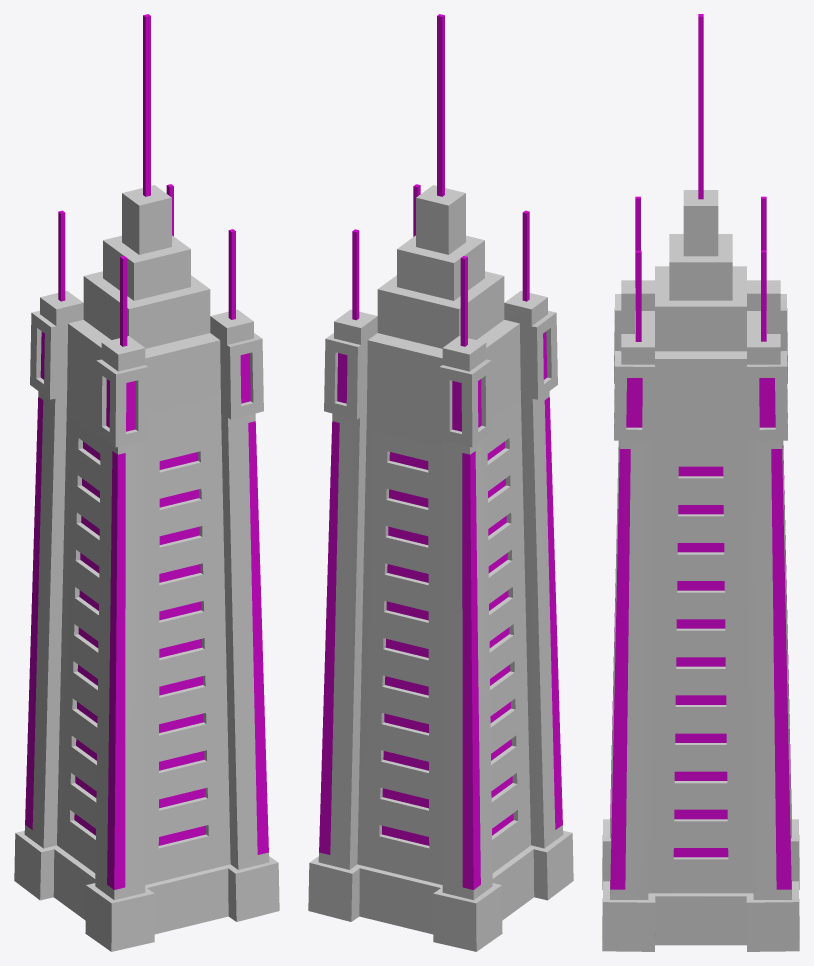
Rendered from SM_Building_01.fbx.
The picture shows the model from 3 angles, left to right: view 1: azimuth 30°, elevation 25°; view 2: azimuth 150°, elevation 25°; view 3: azimuth 270°, elevation 25°; orthographic projection.
Parts seen in each view (by area): view 1: building_08.001; view 2: building_08.001; view 3: building_08.001.
Part boxes in pixels (bbox=[...]): building_08.001: bbox=[14, 14, 279, 951]; building_08.001: bbox=[308, 14, 573, 951]; building_08.001: bbox=[602, 14, 799, 951].
Bounding box in the file's own units: 10 × 50 × 10.
